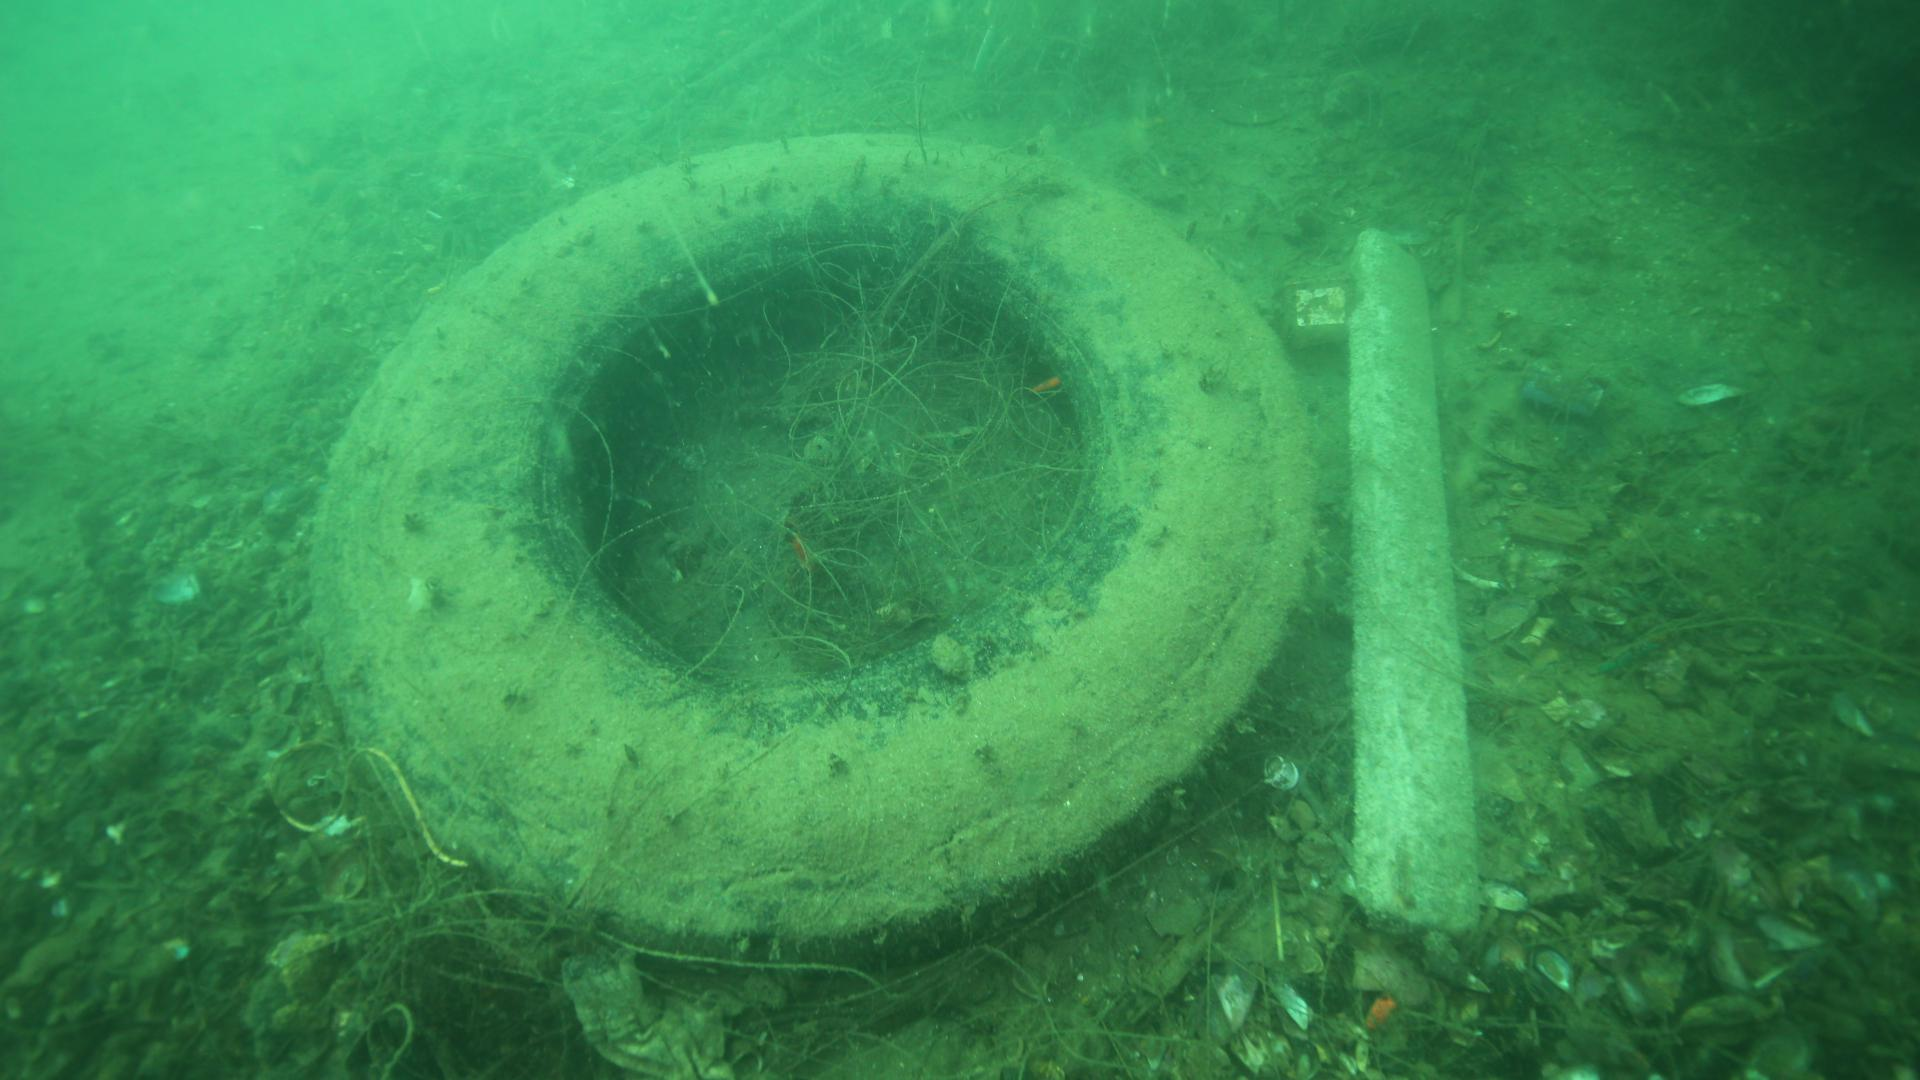tire: (290, 131, 1327, 975)
